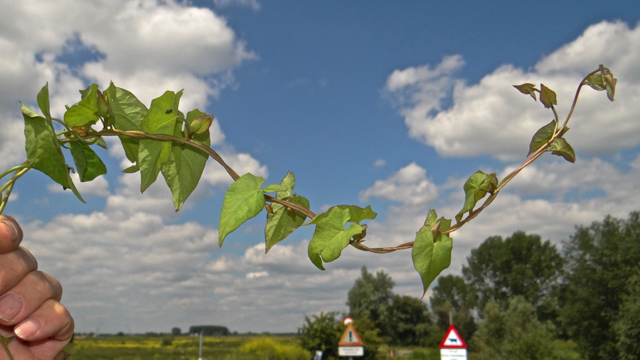haagwinde: (9, 46, 633, 307)
